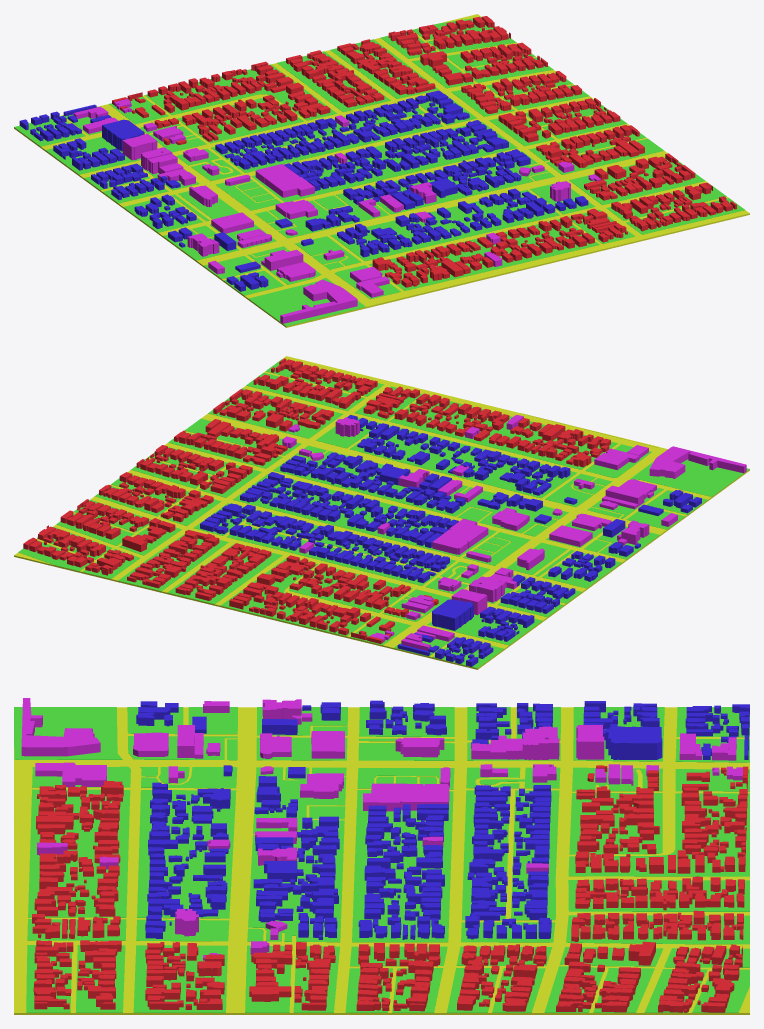
Rendered from basic_bl2.glb.
3 views of the same model, one above another, from view 1: azimuth 30°, elevation 25°; view 2: azimuth 150°, elevation 25°; view 3: azimuth 270°, elevation 25° (orthographic). The views are drawn at different scales.
Parts seen in each view (by area): view 1: block, blood, creep, road, other; view 2: block, blood, creep, road, other; view 3: block, blood, creep, road, other.
Part boxes in pixels (x1,y1,x2,y2): block: (14, 17, 744, 326); blood: (112, 16, 736, 287); creep: (19, 90, 588, 291); road: (14, 14, 749, 327); other: (73, 99, 601, 323); block: (18, 359, 749, 668); blood: (23, 358, 610, 643); creep: (200, 415, 701, 666); road: (14, 356, 749, 669); other: (282, 415, 746, 650); block: (14, 707, 749, 1012); blood: (32, 765, 748, 1012); creep: (136, 700, 749, 939); road: (14, 707, 749, 1014); other: (21, 698, 742, 960).
Size of the model in its own units: 683 by 20.9 by 695.
